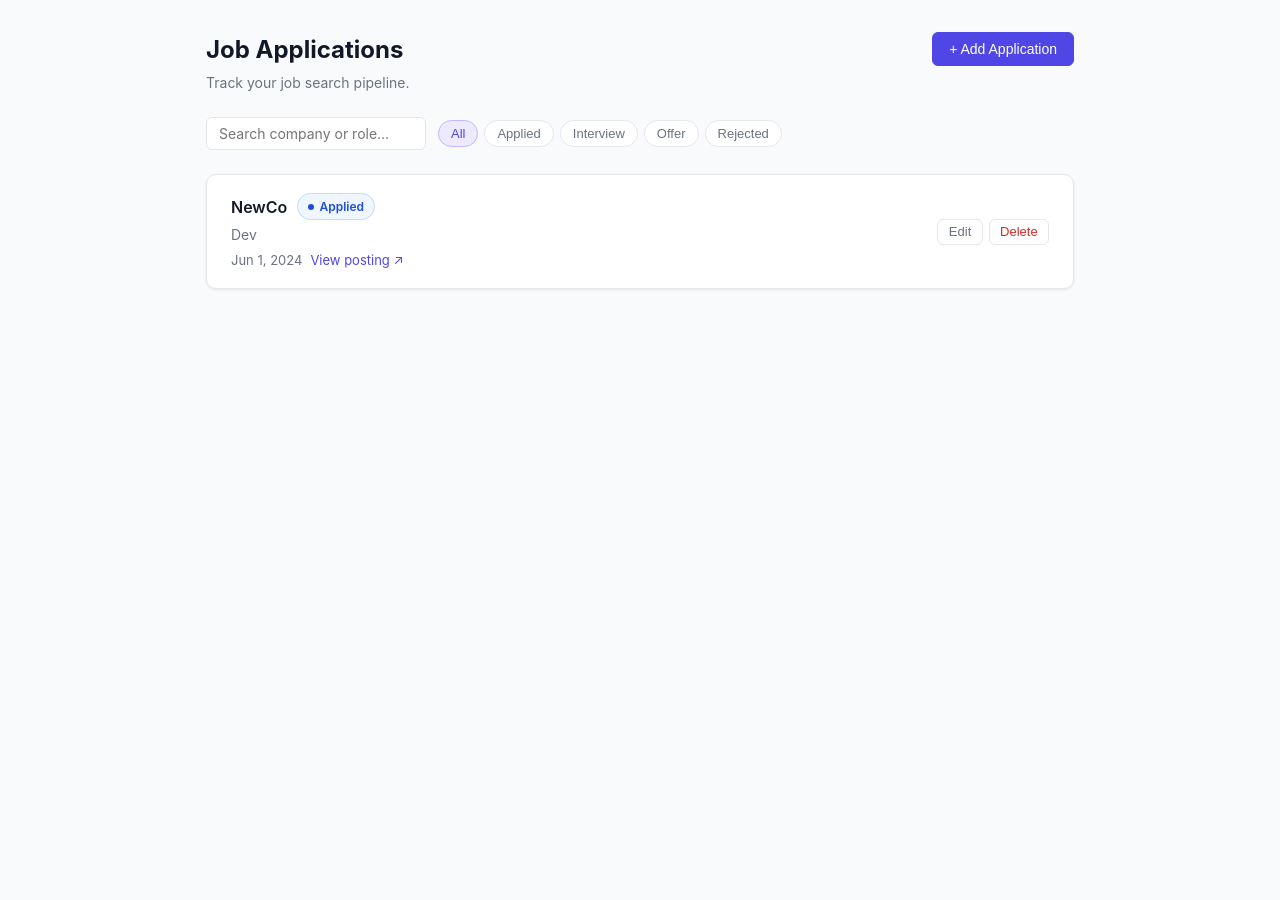
Scenario: ApplicationListView › shows URL validation error for invalid URL
Click the button "+ Add Application" at x=1003, y=49, box 932,32 -> 1074,66
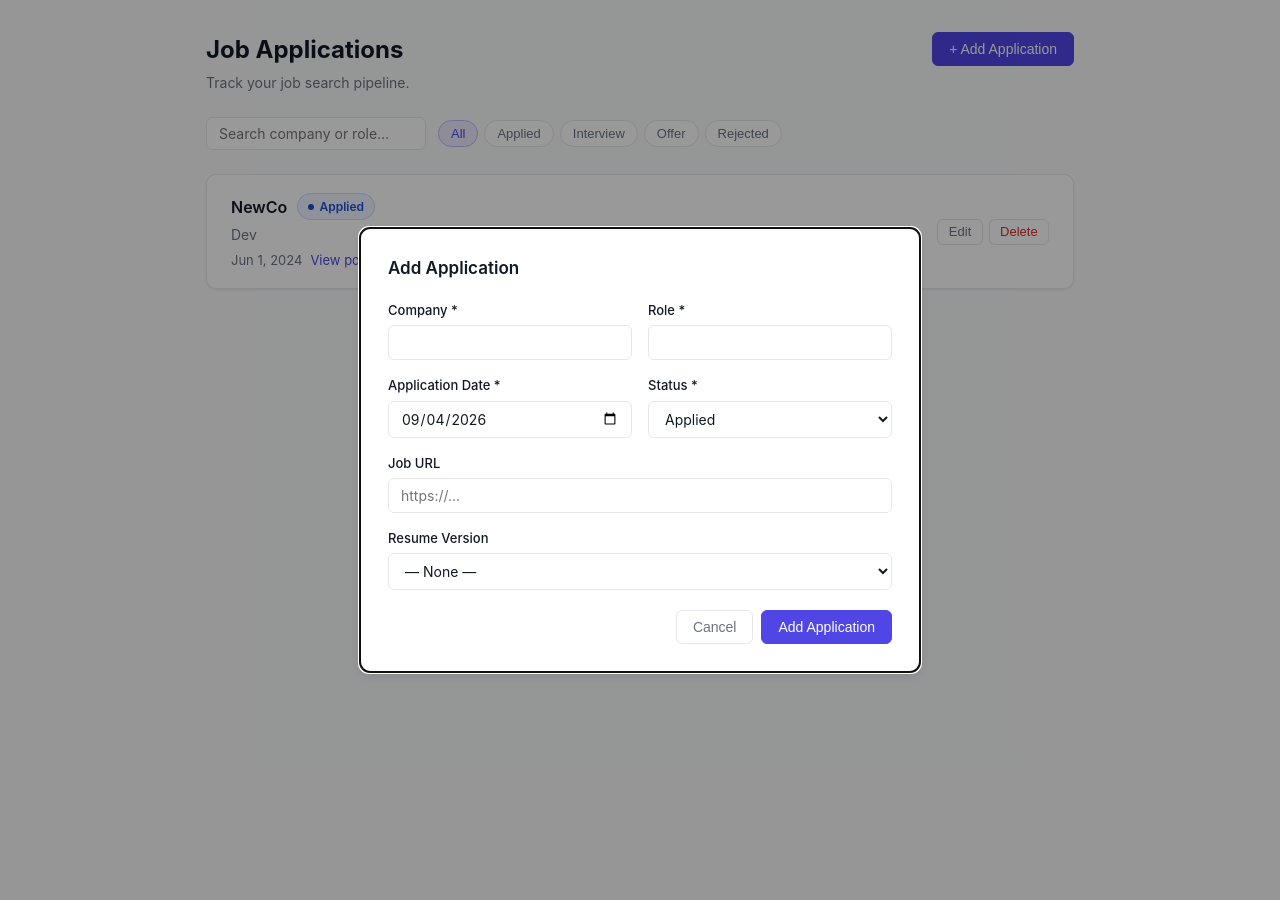
Type "Acme" into the field with id "app-company" at x=510, y=343, box 388,326 -> 632,360
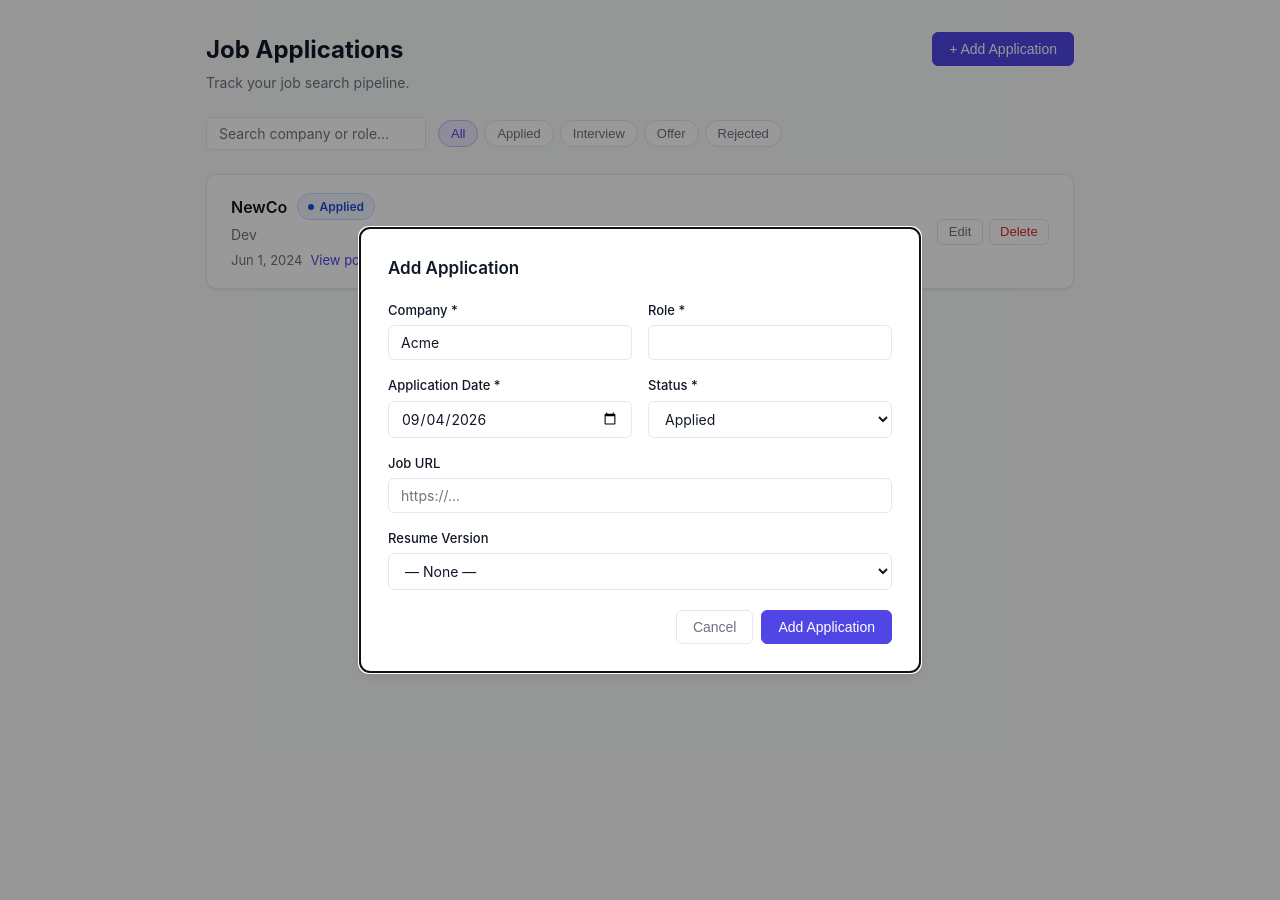
Type "Dev" into the field with id "app-role" at x=770, y=343, box 648,326 -> 892,360
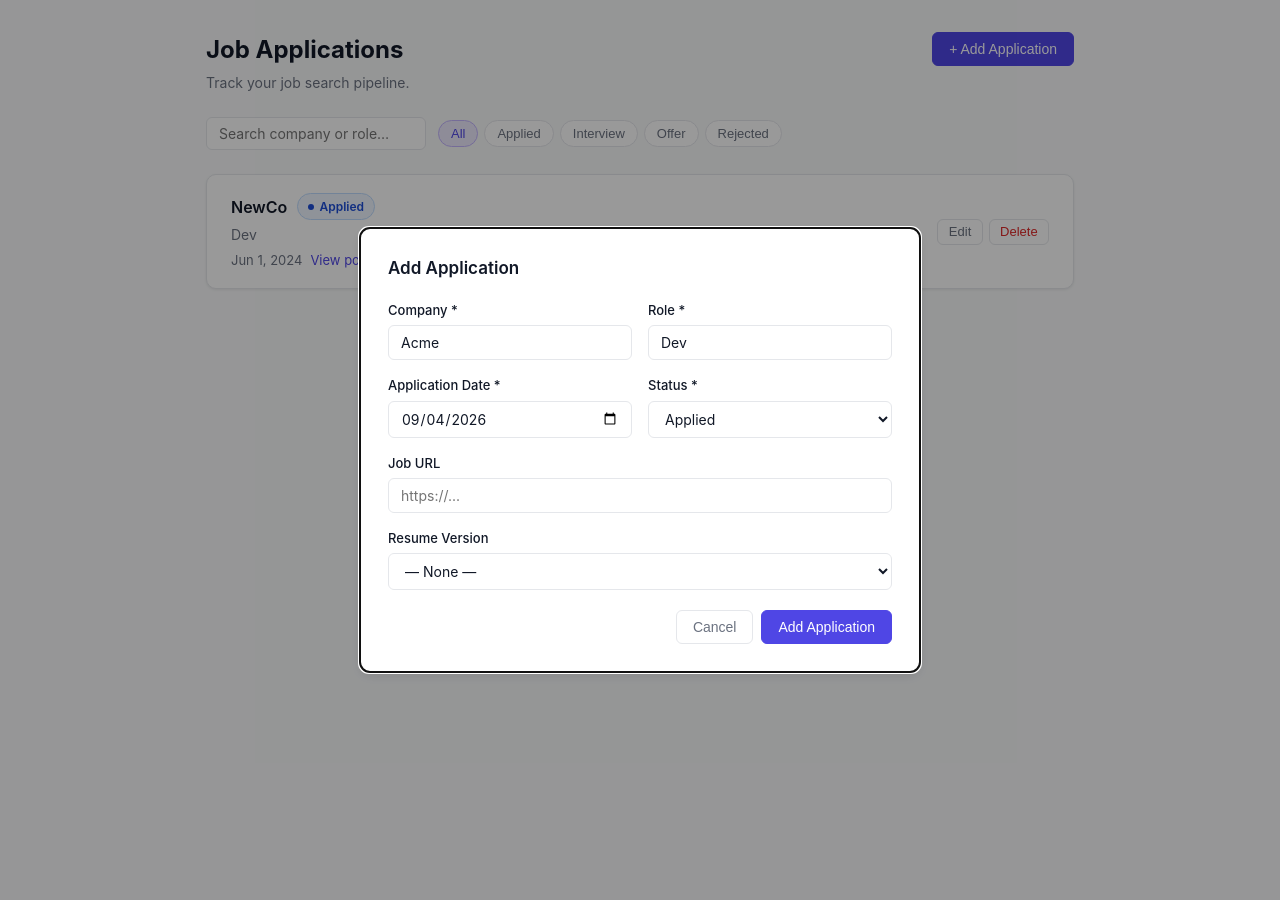
Type "2024-07-01" into the date field with id "app-date" at x=510, y=419, box 388,401 -> 632,438
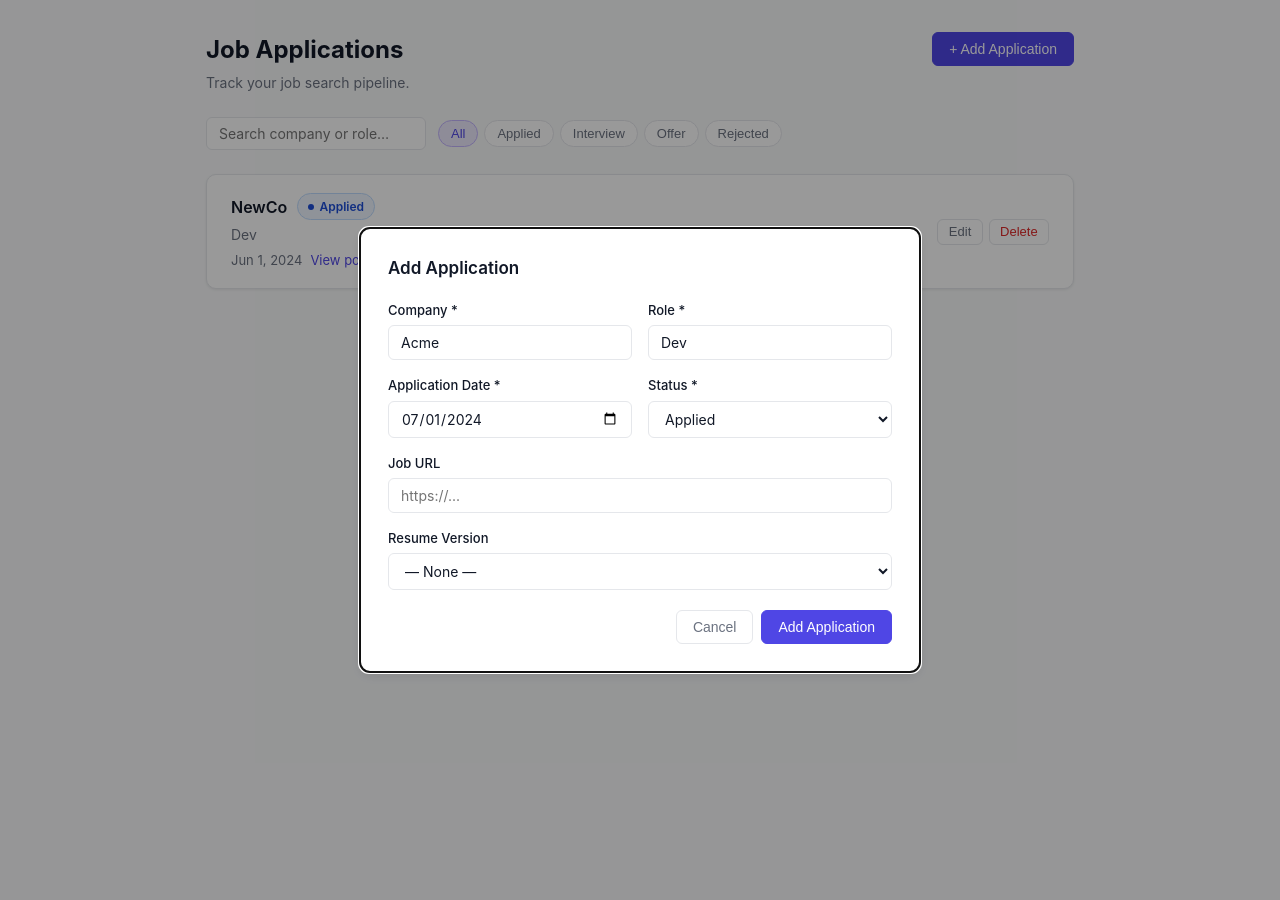
Type "not-a-url" into the field with id "app-url" at x=640, y=496, box 388,478 -> 892,513
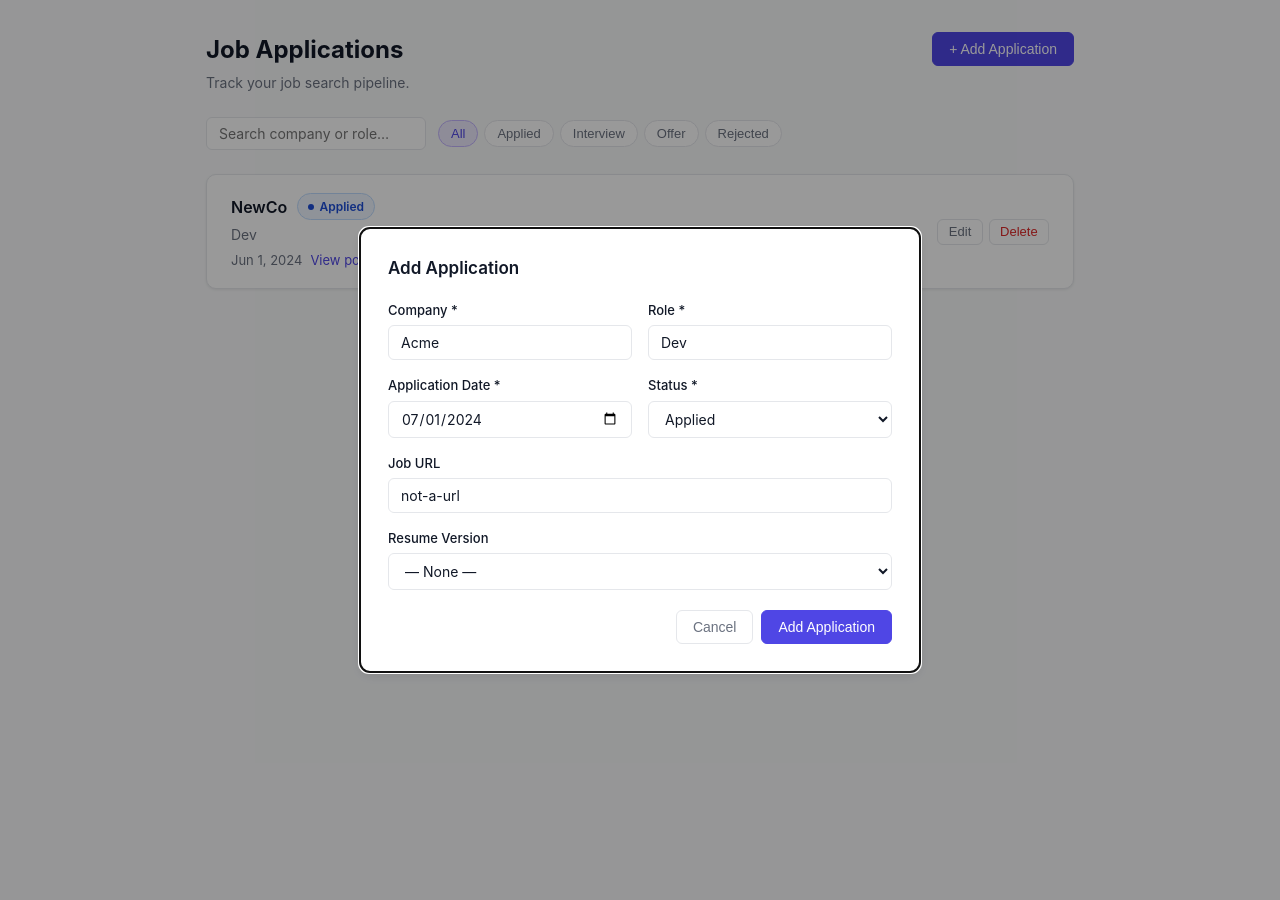
Submit the form, box 388,301 -> 892,644
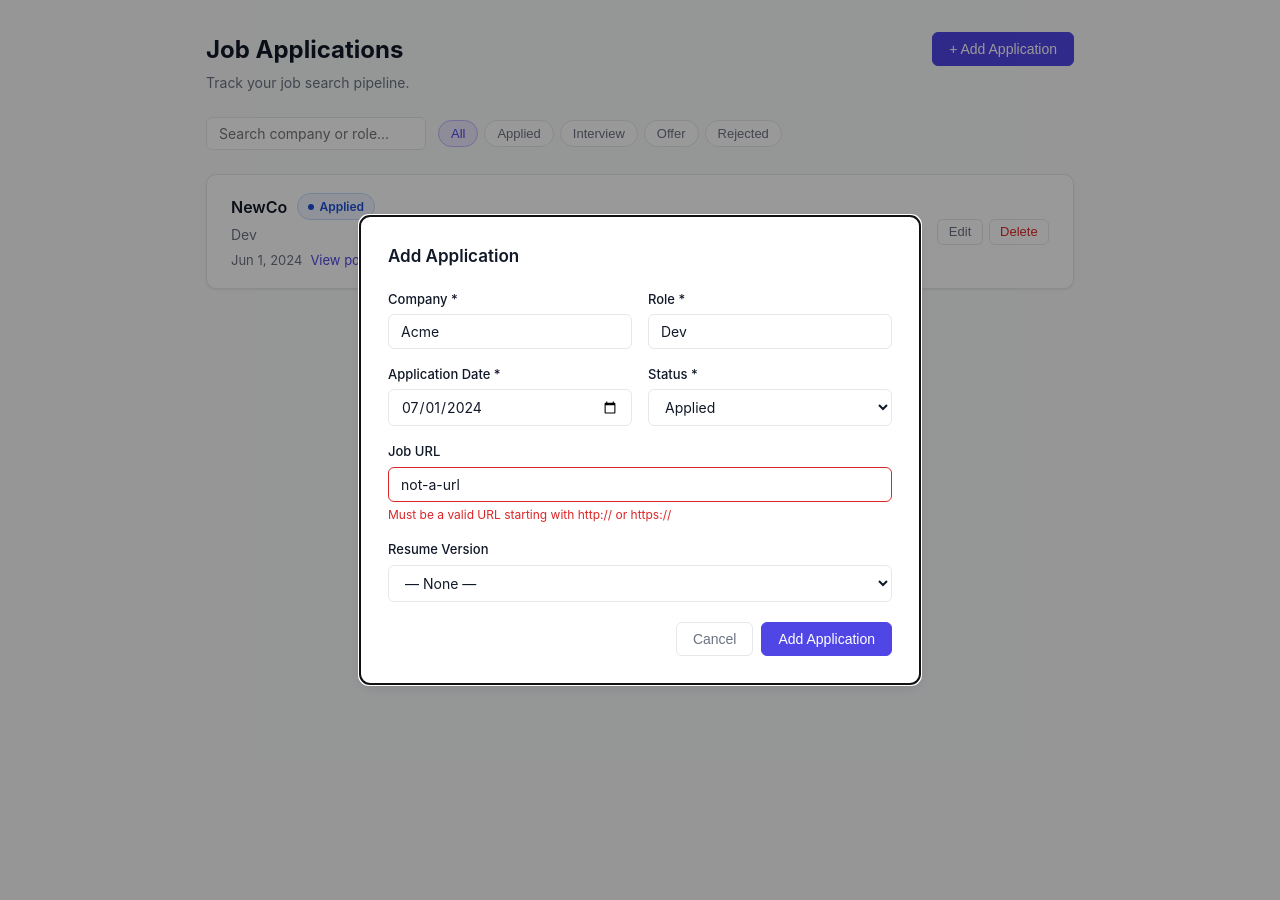
expect the text "Must be a valid URL" is shown: met, box 388,507 -> 671,522
